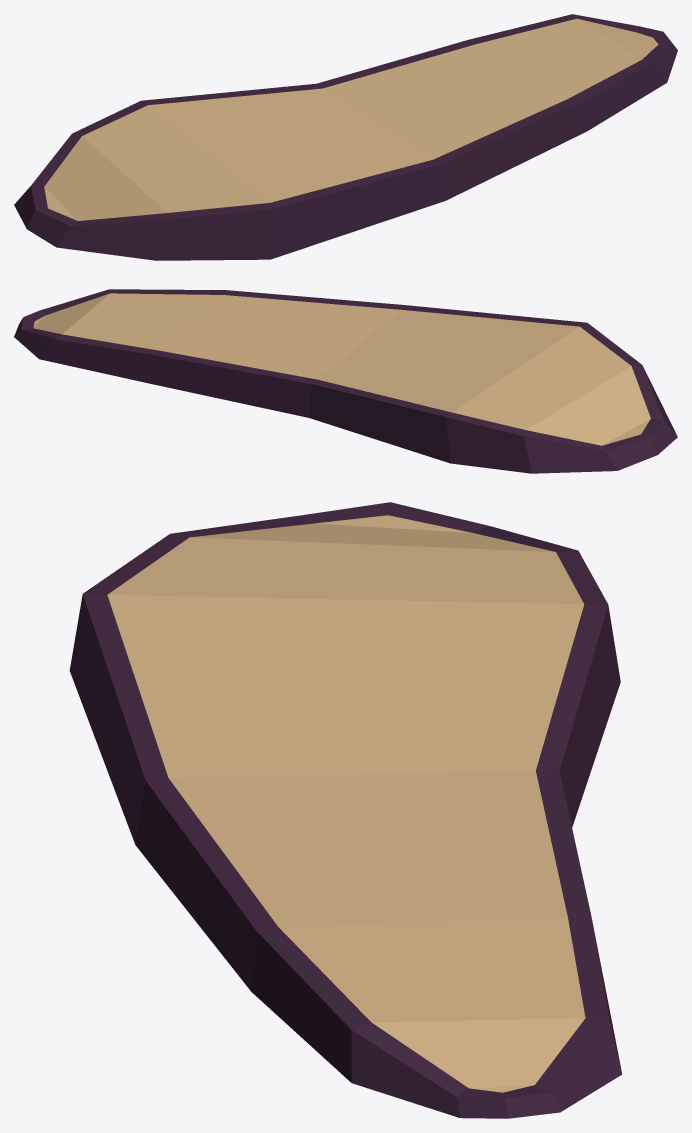
Rendered from eggplantSlice.fbx.
3 renders of one model, top to bottom at view 1: azimuth 30°, elevation 25°; view 2: azimuth 150°, elevation 25°; view 3: azimuth 270°, elevation 25°, orthographic. The views are drawn at different scales.
Parts seen in each view (by area): view 1: eggplantSlice; view 2: eggplantSlice; view 3: eggplantSlice.
Boxes of the visible parts, x1=… form: eggplantSlice: x1=14, y1=14, x2=677, y2=260; eggplantSlice: x1=14, y1=289, x2=677, y2=473; eggplantSlice: x1=69, y1=502, x2=622, y2=1118.
Size of the model in its own units: 28.42 by 1.99 by 11.15.
1 material, 1 textured.
